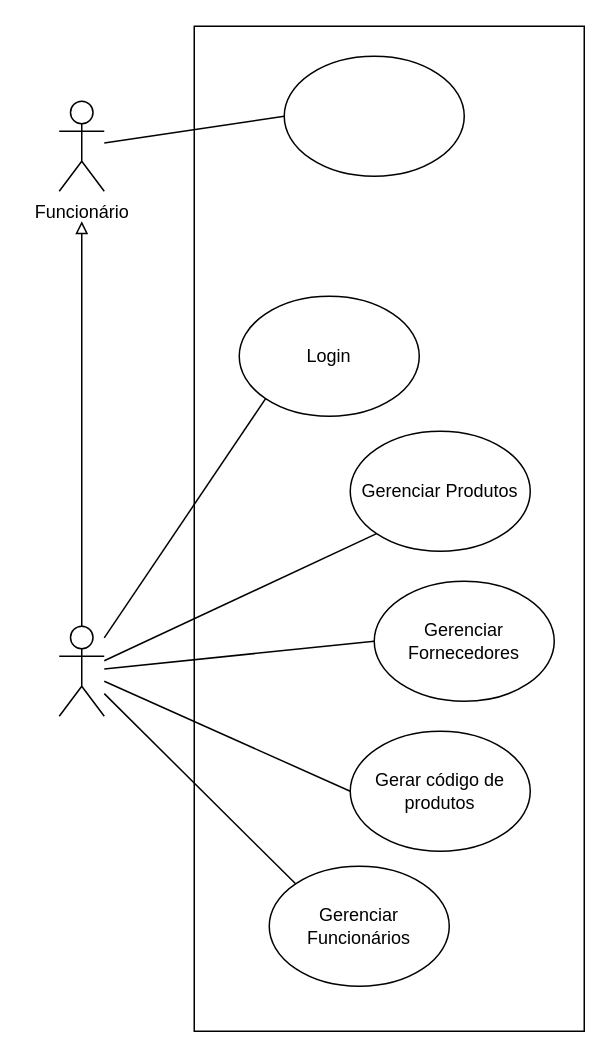
Image size: 611x1058. Some labels were removed from this diagram. The shapes that lost their labels are listed below. From the top down, each one's box as (x1, y1, x2, y2) in pixels, then its label:
(283, 55, 464, 176): Registrar Vendas
(58, 625, 104, 716): Administrador
